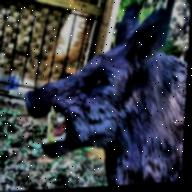boar: (15, 0, 192, 191)
